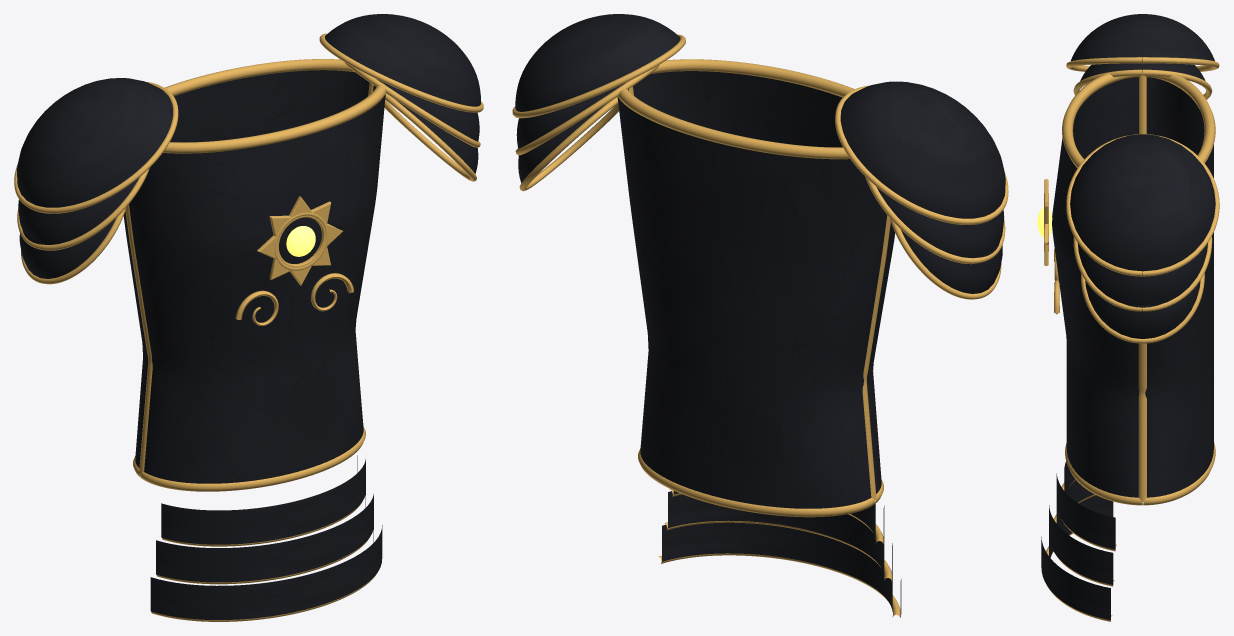
Rendered from armor.glb.
3 views of the same model, side by side, from view 1: azimuth 30°, elevation 25°; view 2: azimuth 150°, elevation 25°; view 3: azimuth 270°, elevation 25° (orthographic). The views are drawn at different scales.
Visible parts, largest first — view 1: cuirass, pauldrons, faulds, goldTrim, sunCore; view 2: cuirass, pauldrons, goldTrim, faulds; view 3: cuirass, pauldrons, goldTrim, faulds.
Boxes of the visible parts, x1,y1,x2,y2 form: cuirass: [123, 70, 385, 483]; pauldrons: [17, 14, 480, 278]; faulds: [150, 455, 382, 619]; goldTrim: [14, 33, 483, 621]; sunCore: [286, 226, 315, 256]; cuirass: [617, 71, 895, 508]; pauldrons: [515, 14, 1005, 293]; goldTrim: [512, 34, 1008, 617]; faulds: [662, 491, 901, 616]; cuirass: [1052, 77, 1213, 497]; pauldrons: [1070, 14, 1215, 338]; goldTrim: [1044, 57, 1219, 621]; faulds: [1041, 461, 1115, 620].
Bounding box in the file's own units: 1.91 × 2.12 × 0.7181.
Materials: 3 (1 with a texture image).
